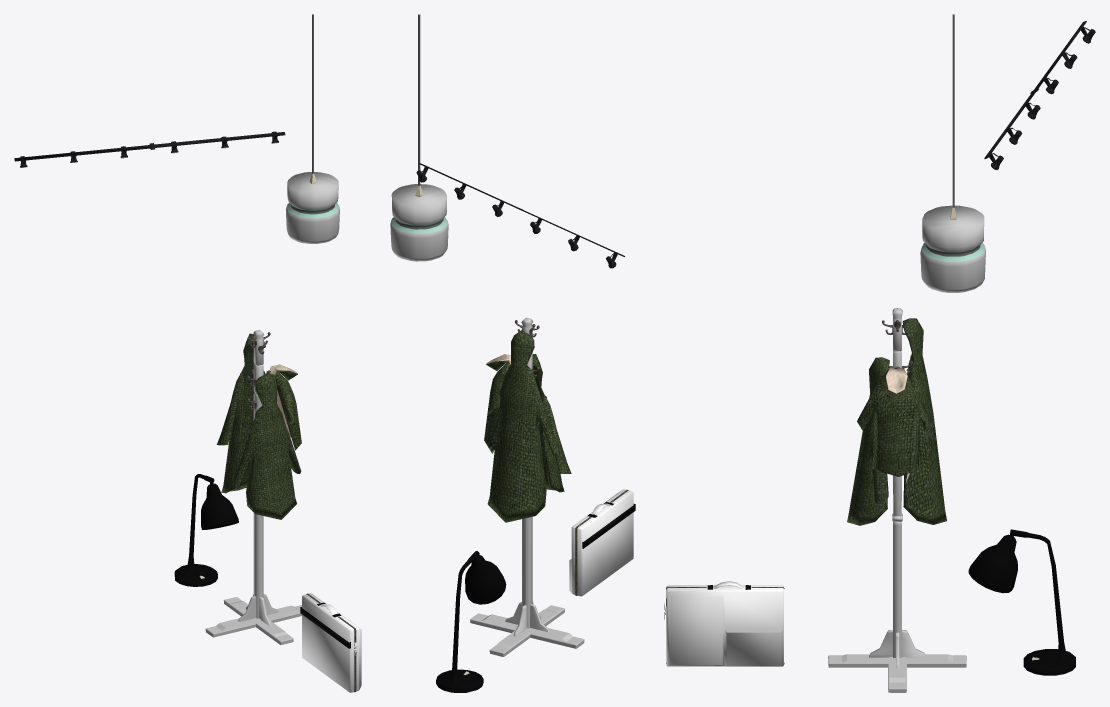
The model's file is OfficeStuff2ndBatch.fbx.
3 renders of one model, left to right at view 1: azimuth 30°, elevation 25°; view 2: azimuth 150°, elevation 25°; view 3: azimuth 270°, elevation 25°, orthographic. The views are drawn at different scales.
Parts seen in each view (by area): view 1: Coat1mediumClean, OfficeBag_Cleaned, CoatHangerClean, Ceiling Lamp Clean, CoatLongClean, DeskLampClean, Ceiling Lights CLean, CoatShortClean; view 2: CoatLongClean, OfficeBag_Cleaned, Ceiling Lamp Clean, CoatHangerClean, DeskLampClean, Coat1mediumClean, Ceiling Lights CLean, CoatShortClean; view 3: OfficeBag_Cleaned, Ceiling Lamp Clean, CoatHangerClean, CoatLongClean, CoatShortClean, DeskLampClean, Coat1mediumClean, Ceiling Lights CLean.
Boxes of the visible parts, x1,y1,x2,y2 form: Coat1mediumClean: (234, 373, 301, 519); OfficeBag_Cleaned: (300, 593, 361, 692); CoatHangerClean: (205, 330, 301, 644); Ceiling Lamp Clean: (286, 14, 339, 243); CoatLongClean: (216, 333, 277, 493); DeskLampClean: (174, 474, 238, 586); Ceiling Lights CLean: (14, 131, 285, 167); CoatShortClean: (266, 364, 301, 450); CoatLongClean: (485, 330, 557, 522); OfficeBag_Cleaned: (569, 489, 635, 596); Ceiling Lamp Clean: (390, 14, 448, 261); CoatHangerClean: (470, 317, 584, 656); DeskLampClean: (436, 551, 506, 692); Coat1mediumClean: (532, 354, 571, 492); Ceiling Lights CLean: (416, 163, 624, 268); CoatShortClean: (484, 354, 510, 453); OfficeBag_Cleaned: (664, 581, 784, 666); Ceiling Lamp Clean: (920, 14, 985, 292); CoatHangerClean: (828, 308, 966, 692); CoatLongClean: (902, 318, 946, 524); CoatShortClean: (857, 367, 928, 484); DeskLampClean: (968, 529, 1075, 675); Coat1mediumClean: (847, 357, 889, 525); Ceiling Lights CLean: (984, 21, 1095, 169).
Size of the model in its own units: 609 by 1246 by 700.
